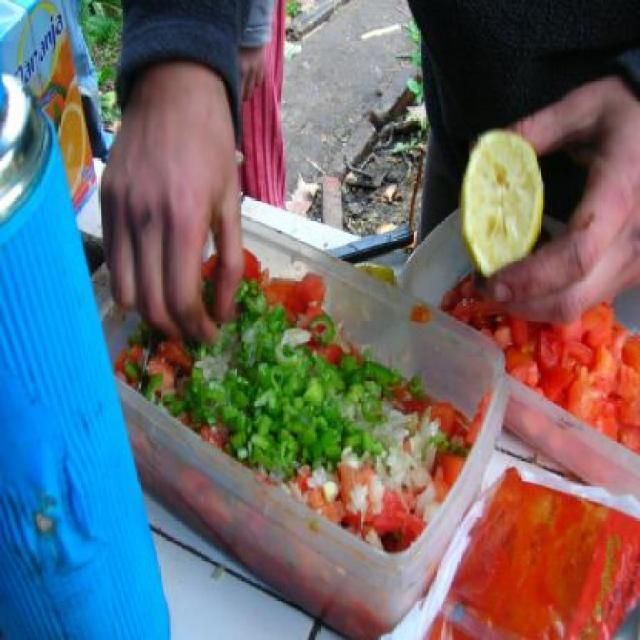Lemon: (464, 138, 560, 276)
